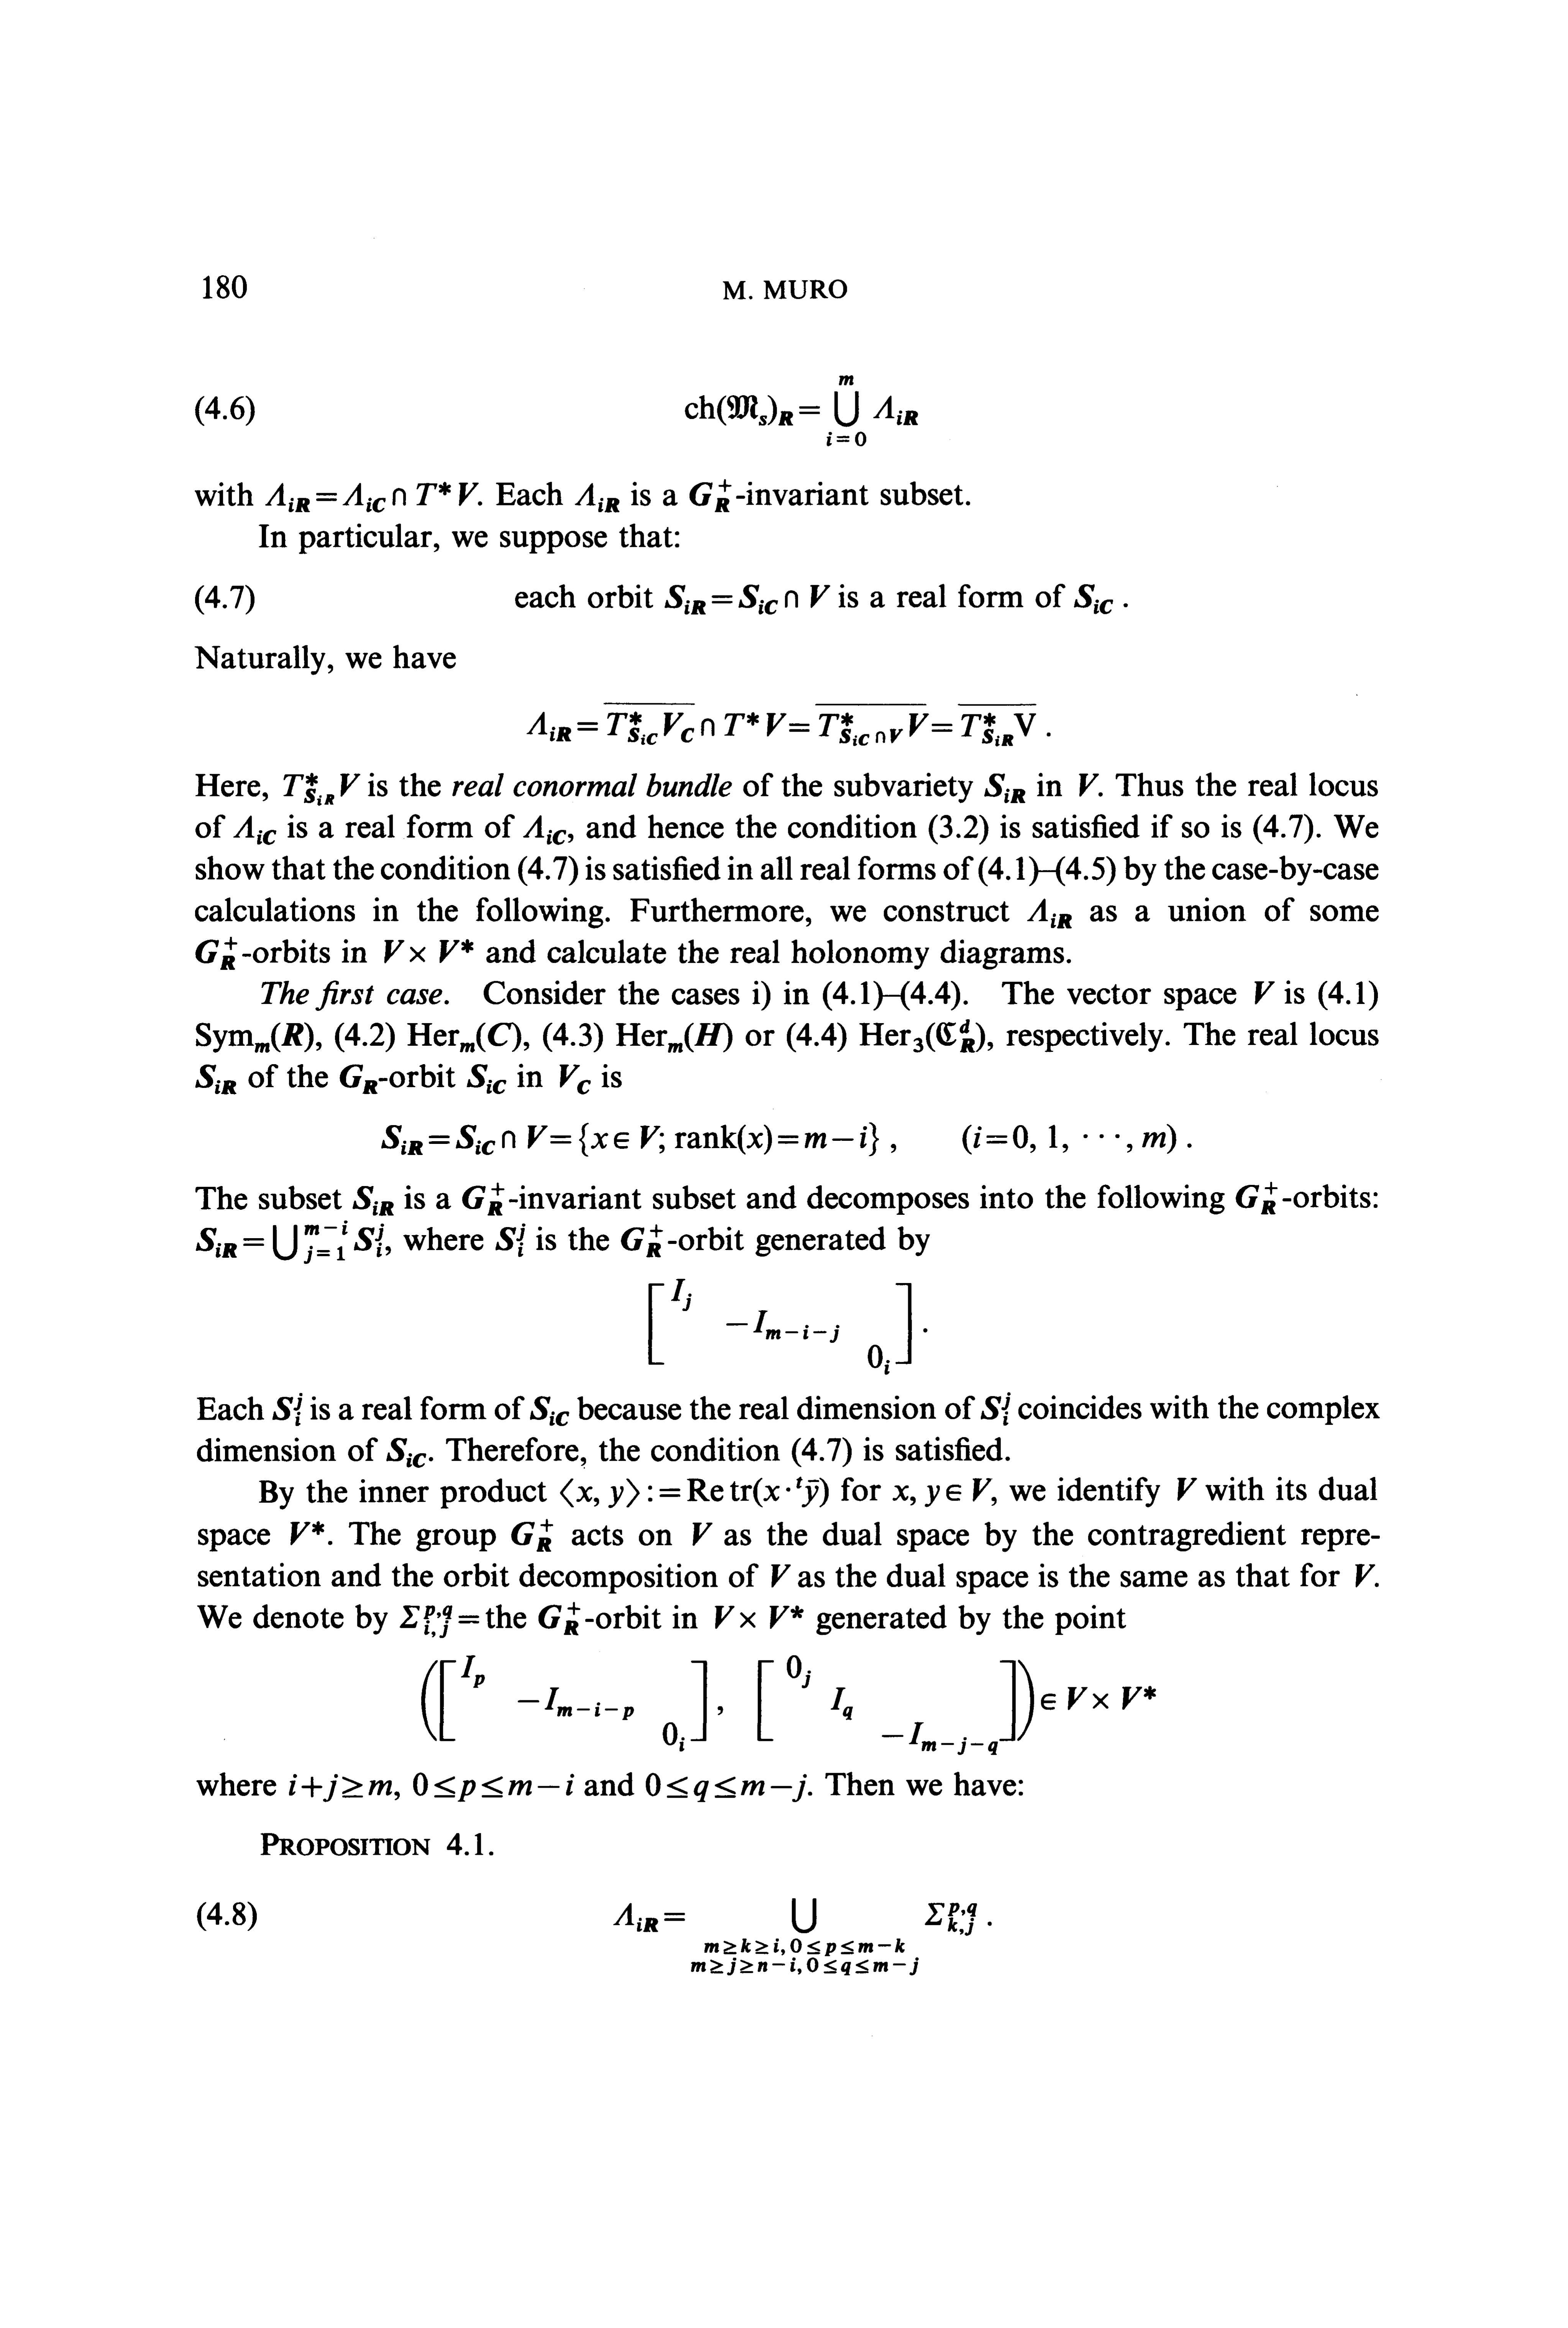maths: (758, 1656, 1155, 1754), (422, 1656, 723, 1752), (612, 1899, 976, 1974), (527, 704, 1036, 746), (381, 1122, 878, 1157), (684, 375, 917, 446), (196, 1220, 383, 1264), (289, 1773, 574, 1801), (560, 1477, 828, 1507), (266, 481, 481, 511), (962, 1124, 1176, 1153), (665, 585, 829, 614), (646, 1773, 807, 1801), (859, 1019, 985, 1052), (196, 1022, 313, 1052), (616, 1022, 731, 1052), (408, 1022, 521, 1052), (892, 1477, 996, 1507), (399, 1605, 478, 1637), (283, 774, 360, 805), (383, 940, 472, 963), (714, 1605, 803, 1628), (1235, 1182, 1277, 1215), (621, 1224, 663, 1257), (196, 936, 236, 970), (539, 1602, 579, 1635), (689, 480, 731, 511), (462, 1183, 504, 1215), (511, 1519, 553, 1551), (233, 816, 276, 845), (1027, 898, 1071, 928), (574, 483, 619, 511), (523, 816, 565, 845), (194, 1064, 236, 1094), (985, 774, 1025, 803), (352, 1187, 394, 1215), (1074, 585, 1113, 614), (467, 1064, 506, 1094), (387, 1437, 425, 1467), (339, 1064, 376, 1094), (530, 1397, 569, 1425), (495, 1224, 525, 1257), (273, 1393, 303, 1425), (982, 1392, 1010, 1425), (560, 1064, 590, 1094), (290, 1521, 324, 1546), (1080, 774, 1102, 796), (1354, 1563, 1375, 1588), (1255, 982, 1274, 1005), (1178, 1477, 1197, 1500), (693, 1523, 712, 1546), (772, 1565, 791, 1588)
